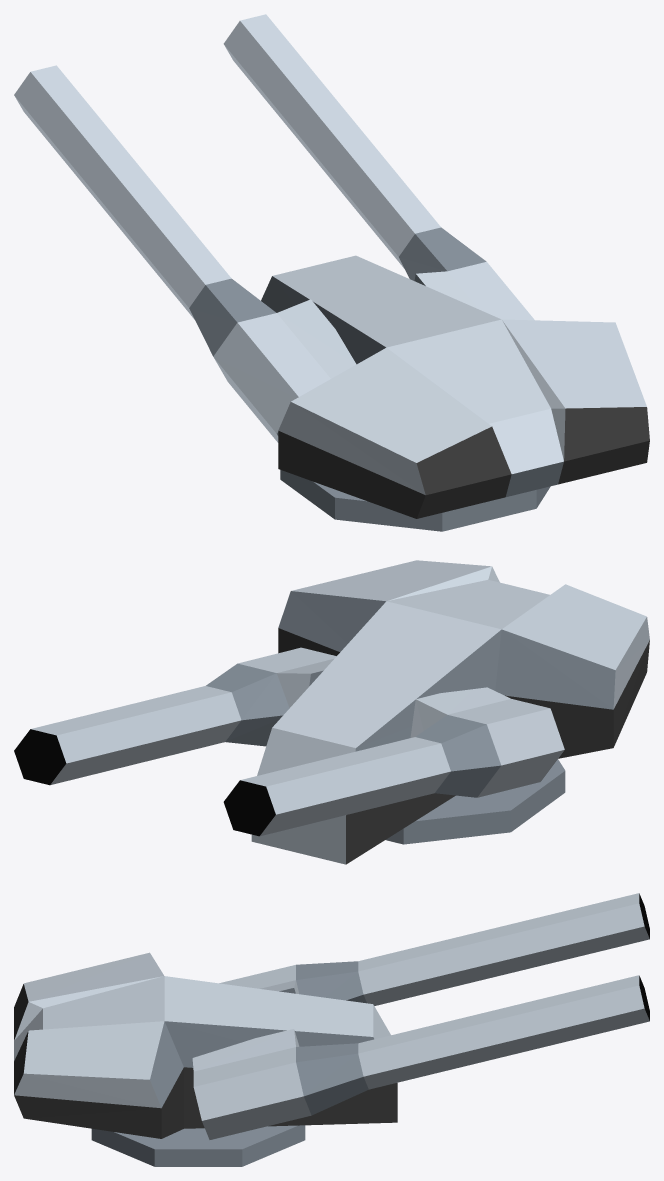
File: Cannon.FBX
3 renders of one model, top to bottom at view 1: azimuth 30°, elevation 25°; view 2: azimuth 150°, elevation 25°; view 3: azimuth 270°, elevation 25°, orthographic. The views are drawn at different scales.
Visible parts, largest first — view 1: VIFS002, VIFS003, VIFS001; view 2: VIFS002, VIFS001, VIFS003, VIFS004; view 3: VIFS002, VIFS001, VIFS003.
Boxes of the visible parts, x1,y1,x2,y2 form: VIFS002: (14,14,646,494); VIFS003: (278,407,649,518); VIFS001: (189,227,563,531); VIFS002: (31,560,649,864); VIFS001: (206,591,615,844); VIFS003: (278,628,649,864); VIFS004: (14,729,275,836); VIFS002: (14,893,649,1139); VIFS001: (91,961,373,1166); VIFS003: (14,984,397,1138).
Size of the model in its own units: 0.64 by 0.415 by 1.31.
